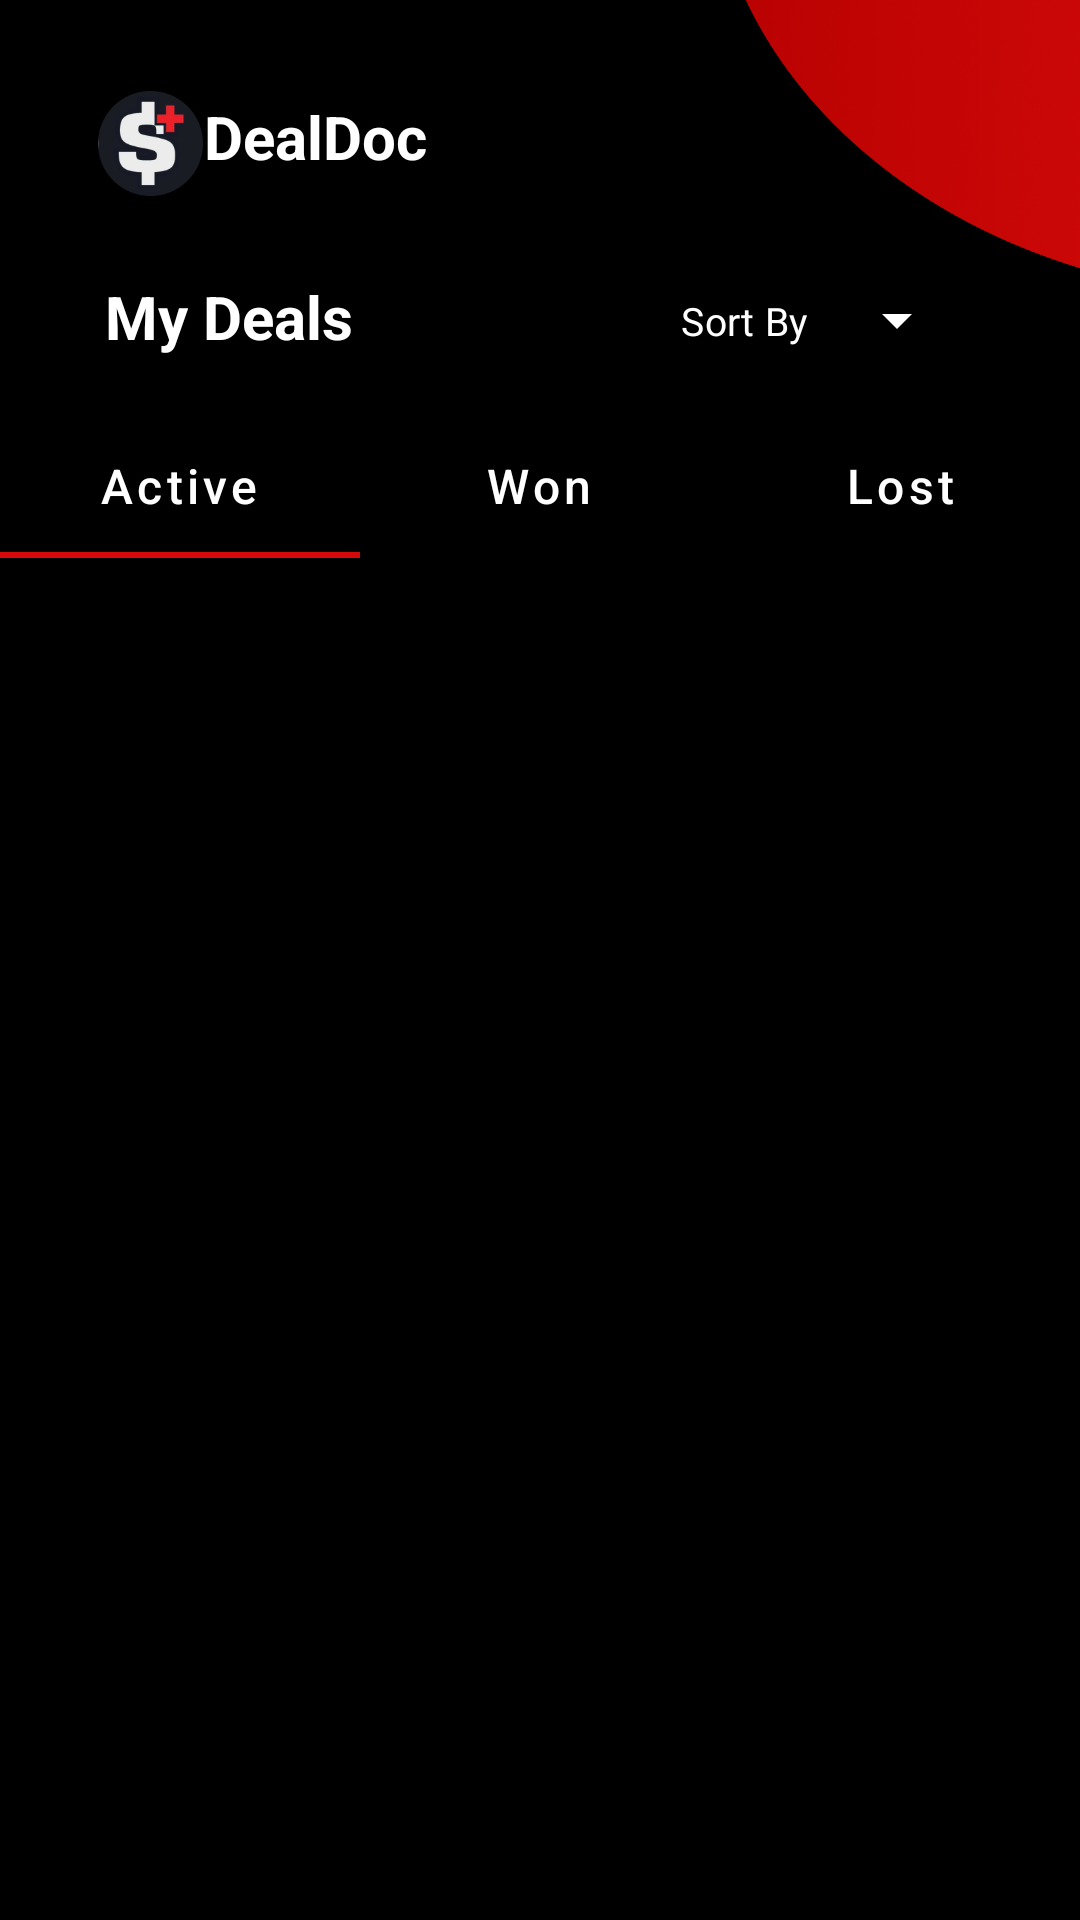

Where icons sit on this 1080 × 1920 app screen, as [x1,y1,x2,y2]:
dollar: [98,91,203,196]
